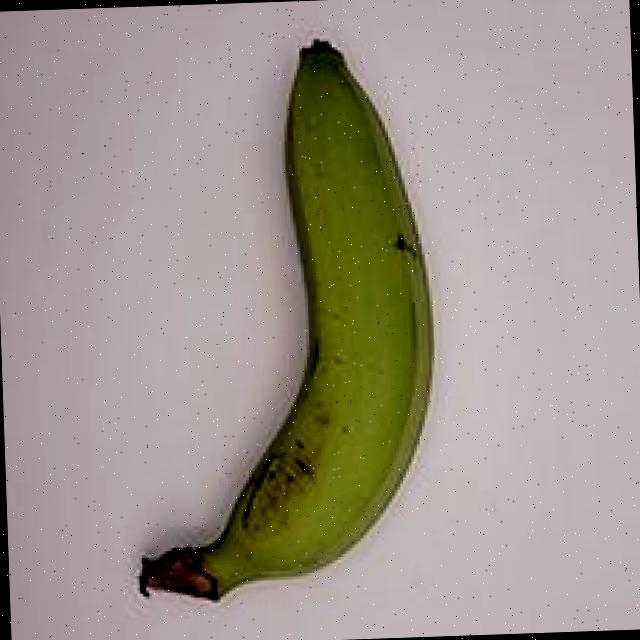Raw: (69, 9, 465, 627)
